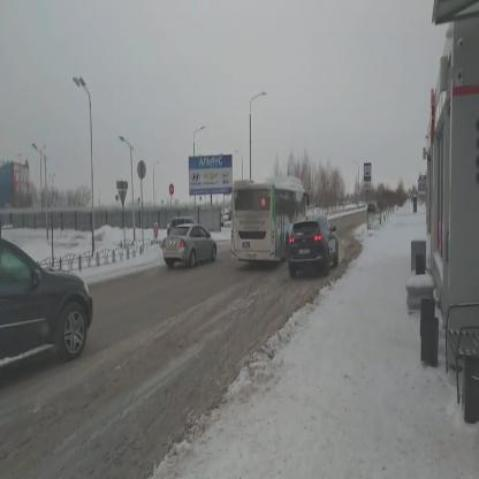bus: (233, 182, 308, 264)
car: (0, 232, 96, 362), (283, 215, 347, 280), (160, 222, 221, 271), (368, 202, 378, 212)
